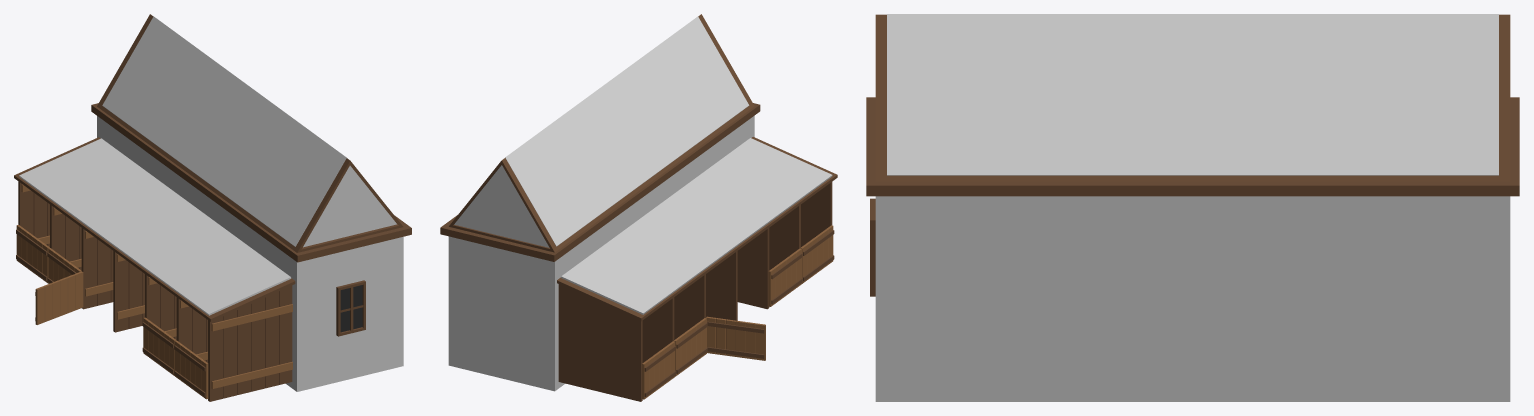
The model's file is Stable_base_snow_mat.fbx.
3 views of the same model, side by side, from view 1: azimuth 30°, elevation 25°; view 2: azimuth 150°, elevation 25°; view 3: azimuth 270°, elevation 25° (orthographic). The views are drawn at different scales.
Visible parts, largest first — view 1: Stable_base_snow_mat; view 2: Stable_base_snow_mat; view 3: Stable_base_snow_mat.
Boxes of the visible parts, box(x1,y1,x2,y2) form: Stable_base_snow_mat: box(14, 14, 411, 401); Stable_base_snow_mat: box(440, 14, 837, 401); Stable_base_snow_mat: box(866, 14, 1519, 401).
Size of the model in its own units: 462 by 390 by 667.
